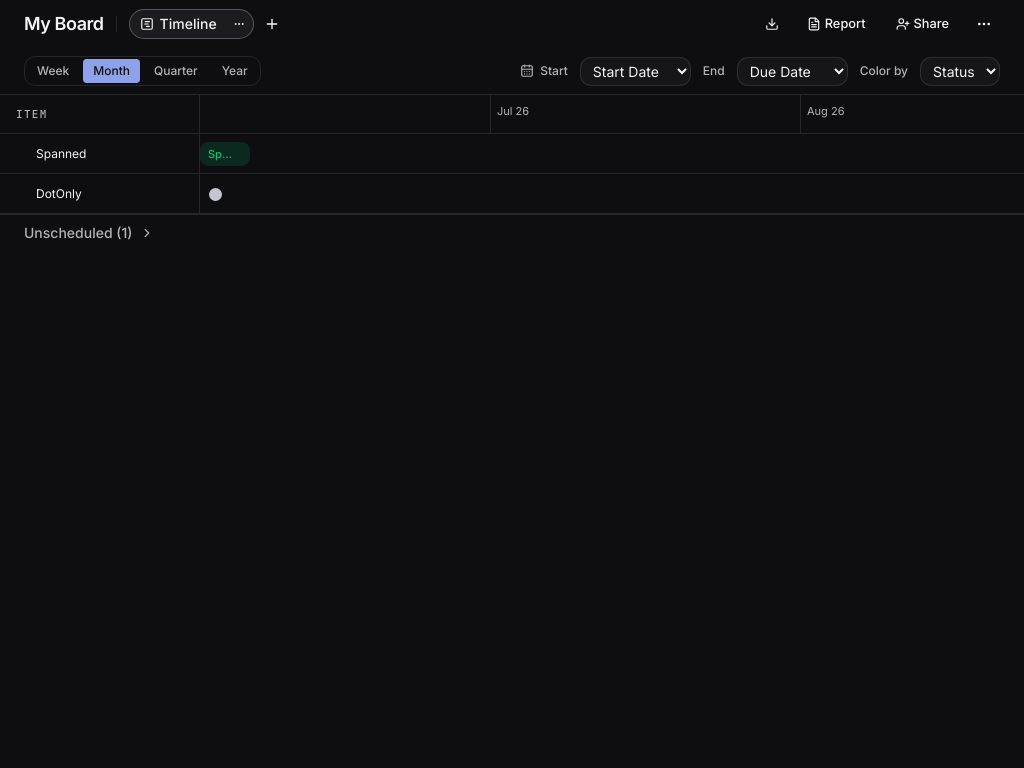
Test: GanttBoard — quick-edit peek › opens the peek from an unscheduled row
This screenshot has width=1024, height=768.
What coordinates should you click on to do the following:
click the button "Unscheduled (1)"
I would click on:
 (73, 232)
Its box is top-left (0, 215), bottom-right (1023, 251).
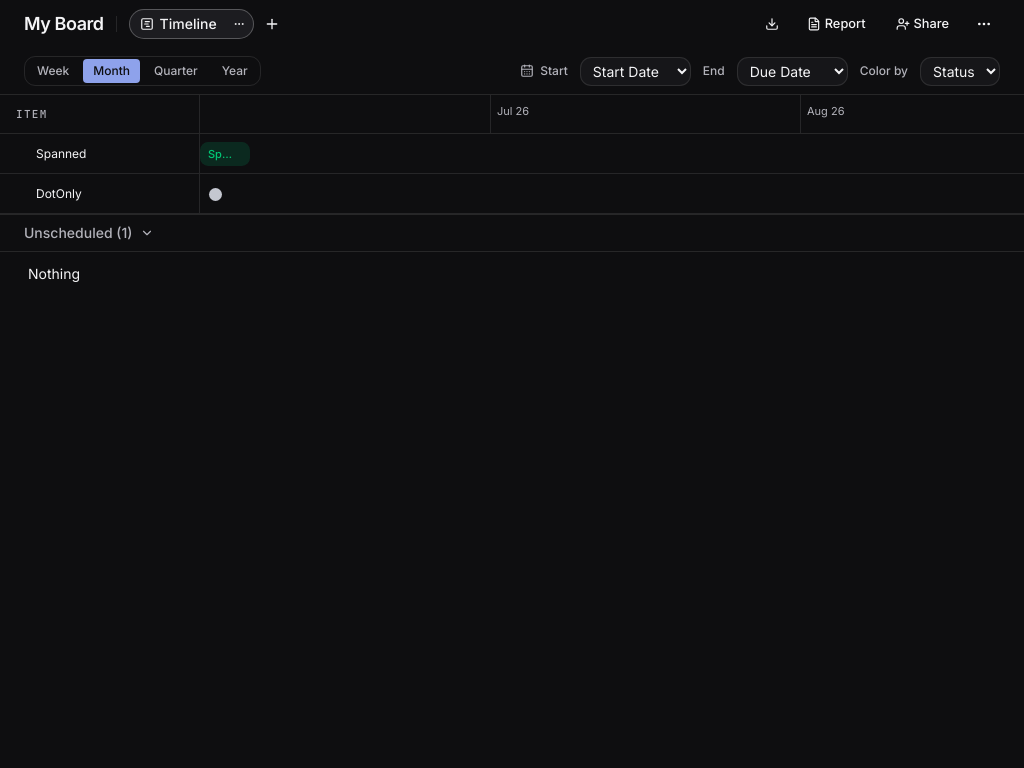
What coordinates should you click on to do the following:
click the button "Nothing"
I would click on:
 (54, 274)
Its box is top-left (24, 262), bottom-right (1000, 286).
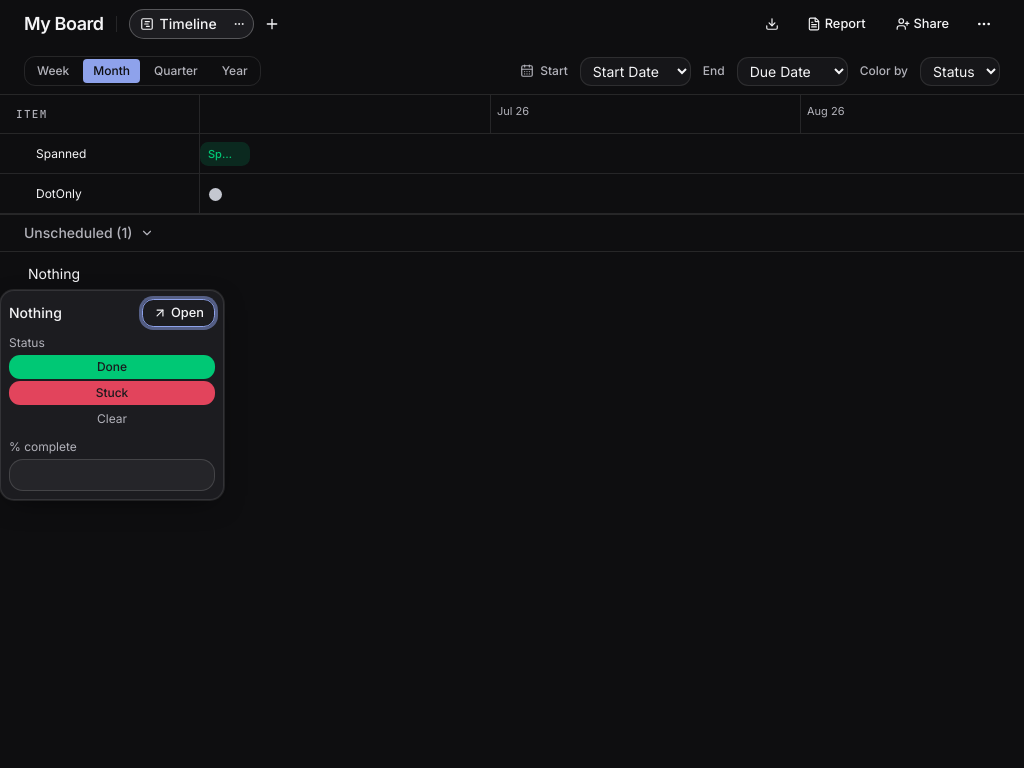
Expected: the dialog named "Edit Nothing" is shown, top-left (0, 290), bottom-right (224, 500)
